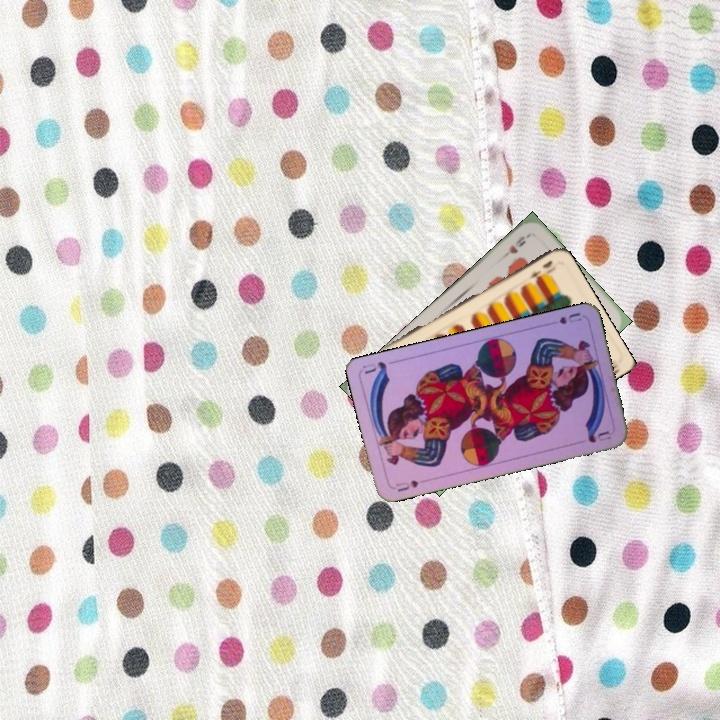E10: (525, 256, 555, 281)
H9: (505, 231, 532, 257)
SU: (544, 308, 584, 328), (389, 476, 421, 494)
